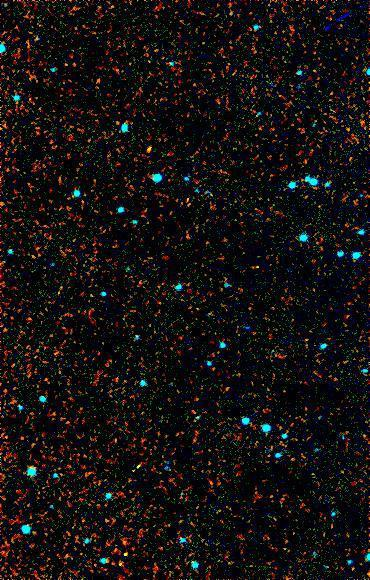star: (133, 126, 163, 156)
